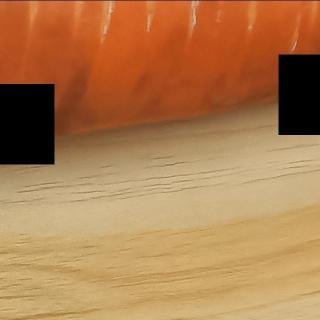carrot: (0, 0, 320, 165)
